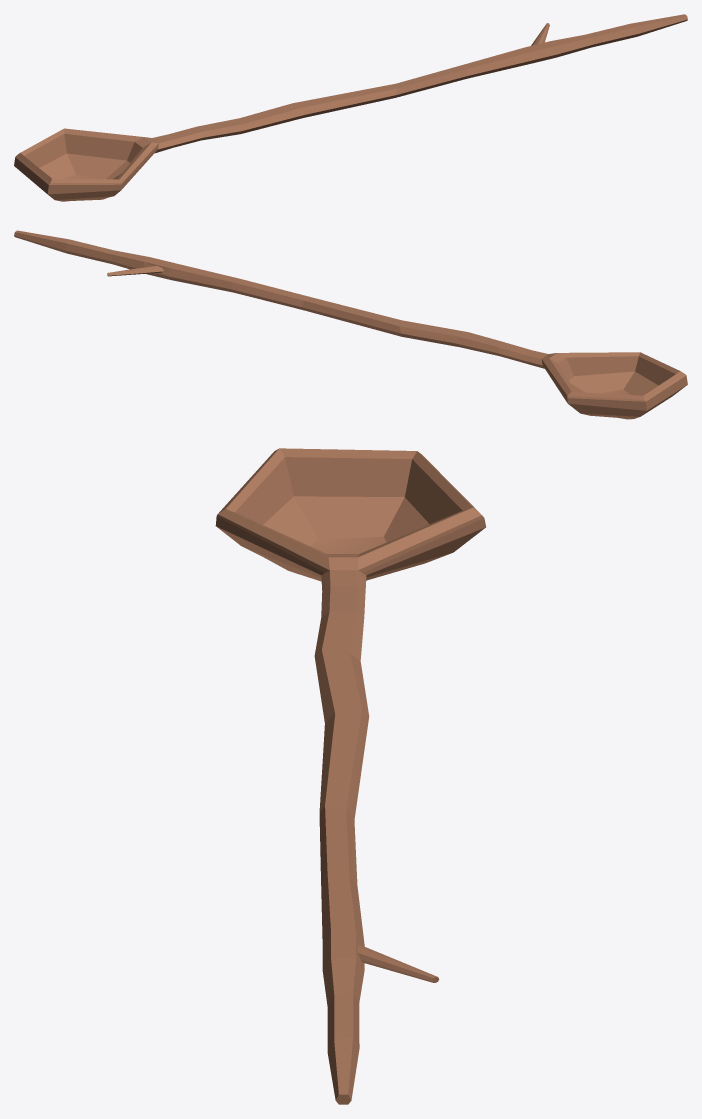
Rendered from Spoon.fbx.
3 views of the same model, one above another, from view 1: azimuth 30°, elevation 25°; view 2: azimuth 150°, elevation 25°; view 3: azimuth 270°, elevation 25° (orthographic). The views are drawn at different scales.
Visible parts, largest first — view 1: pCylinder2; view 2: pCylinder2; view 3: pCylinder2.
Part boxes in pixels (x1,y1,x2,y2): pCylinder2: [14, 14, 687, 201]; pCylinder2: [14, 230, 687, 419]; pCylinder2: [215, 448, 485, 1104].
Size of the model in its own units: 2.63 by 0.1495 by 0.4705.
